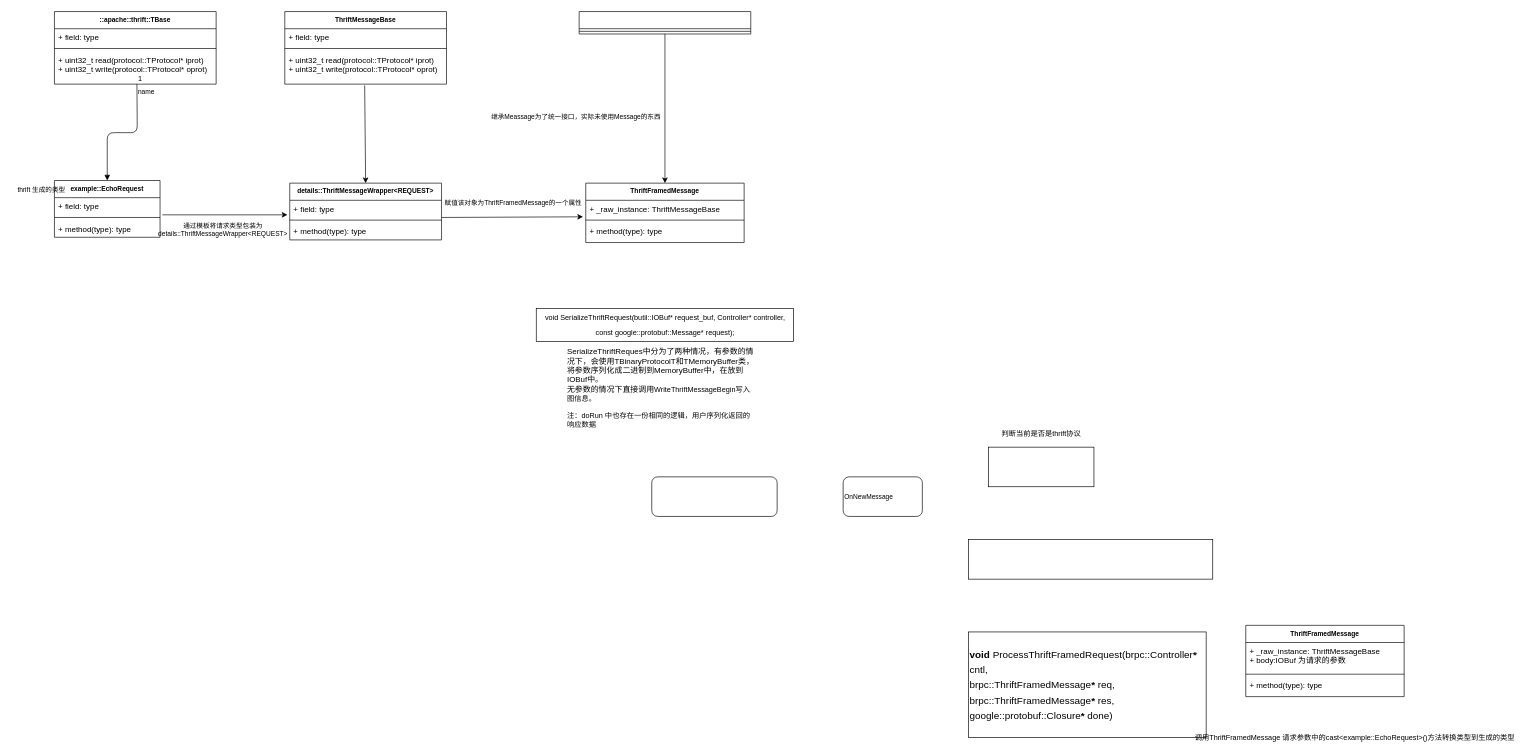
Image size: 1531x756. Some labels were removed from this diagram. The shapes that lost their labels are listed below. From the top down, each one's centre as x and y in pixels, then its label:
At (664,22): "::google::protobuf::Message".
At (1041,466): "ParseThriftMessage".
At (714,496): "Chanel::send(IOBuf res)".
At (1090,559): "ProcessThriftRequest(InputMessageBase * msg_base)".
